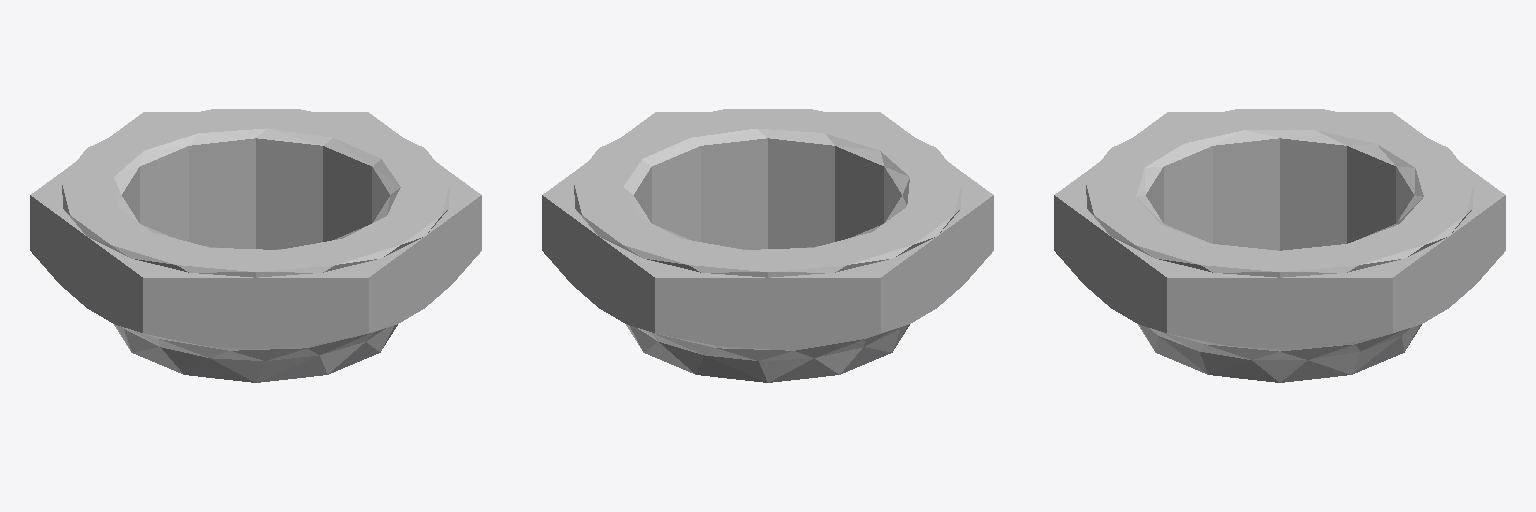
File: 69. Гайка крепления фланца.obj
The picture shows the model from 3 angles: view 1: azimuth 30°, elevation 25°; view 2: azimuth 150°, elevation 25°; view 3: azimuth 270°, elevation 25°; orthographic projection.
Visible parts, largest first — view 1: Твердое тело1; view 2: Твердое тело1; view 3: Твердое тело1.
Part boxes in pixels (bbox=[...]): Твердое тело1: bbox=[30, 109, 481, 382]; Твердое тело1: bbox=[542, 109, 993, 382]; Твердое тело1: bbox=[1054, 109, 1505, 382].
Bounding box in the file's own units: 32 × 12 × 36.95.